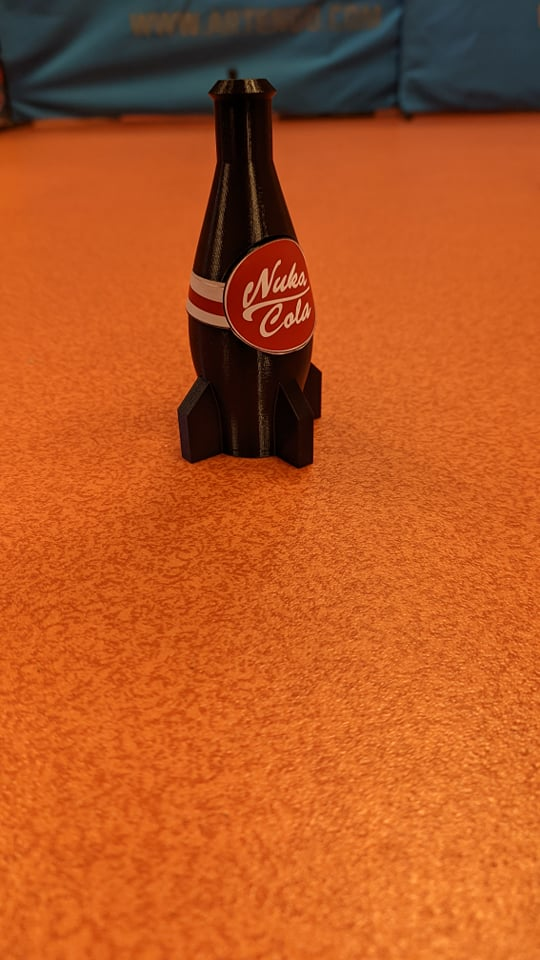bottle: (157, 65, 357, 493)
